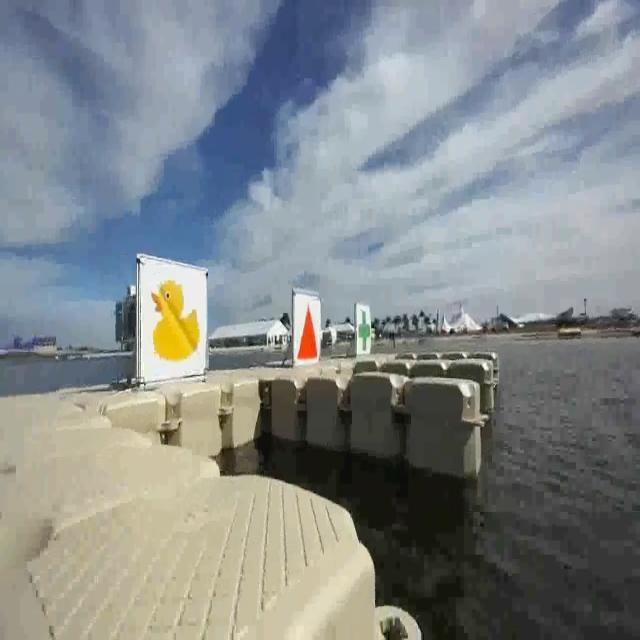blue-cross: (355, 303, 372, 357)
red-dot: (294, 293, 323, 371)
yellow-duck: (139, 259, 203, 371)
